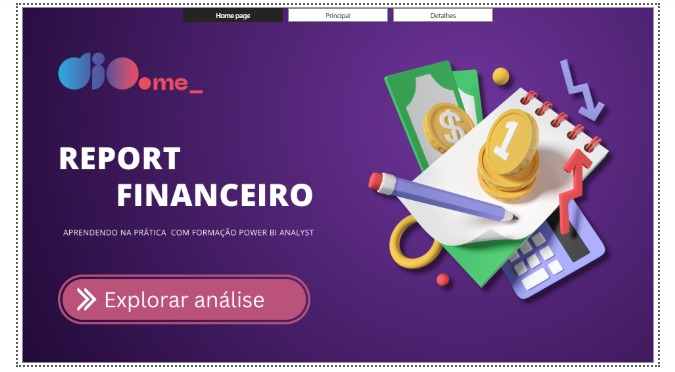

The dashboard page shown, as its layout file describes it:
{"tool":"powerbi","page":{"name":"Home page","canvas":[1280,720],"ordinal":0},"visuals":[{"type":"image","box":[0,0,1279.9,720],"z":0},{"type":"actionButton","box":[88,531.7,491.4,114.9],"z":1000},{"type":"pageNavigator","box":[330,6,620,28],"z":1001}]}

Visuals, with their boxes on the page's 1280x720 design canvas (x1, y1, x2, y2). These are canvas units, not pixel positions in the 675x372 screenshot, which may show the page scaled, cropped or inside an application window:
image: [0, 0, 1280, 720]
actionButton: [88, 532, 579, 647]
pageNavigator: [330, 6, 950, 34]
